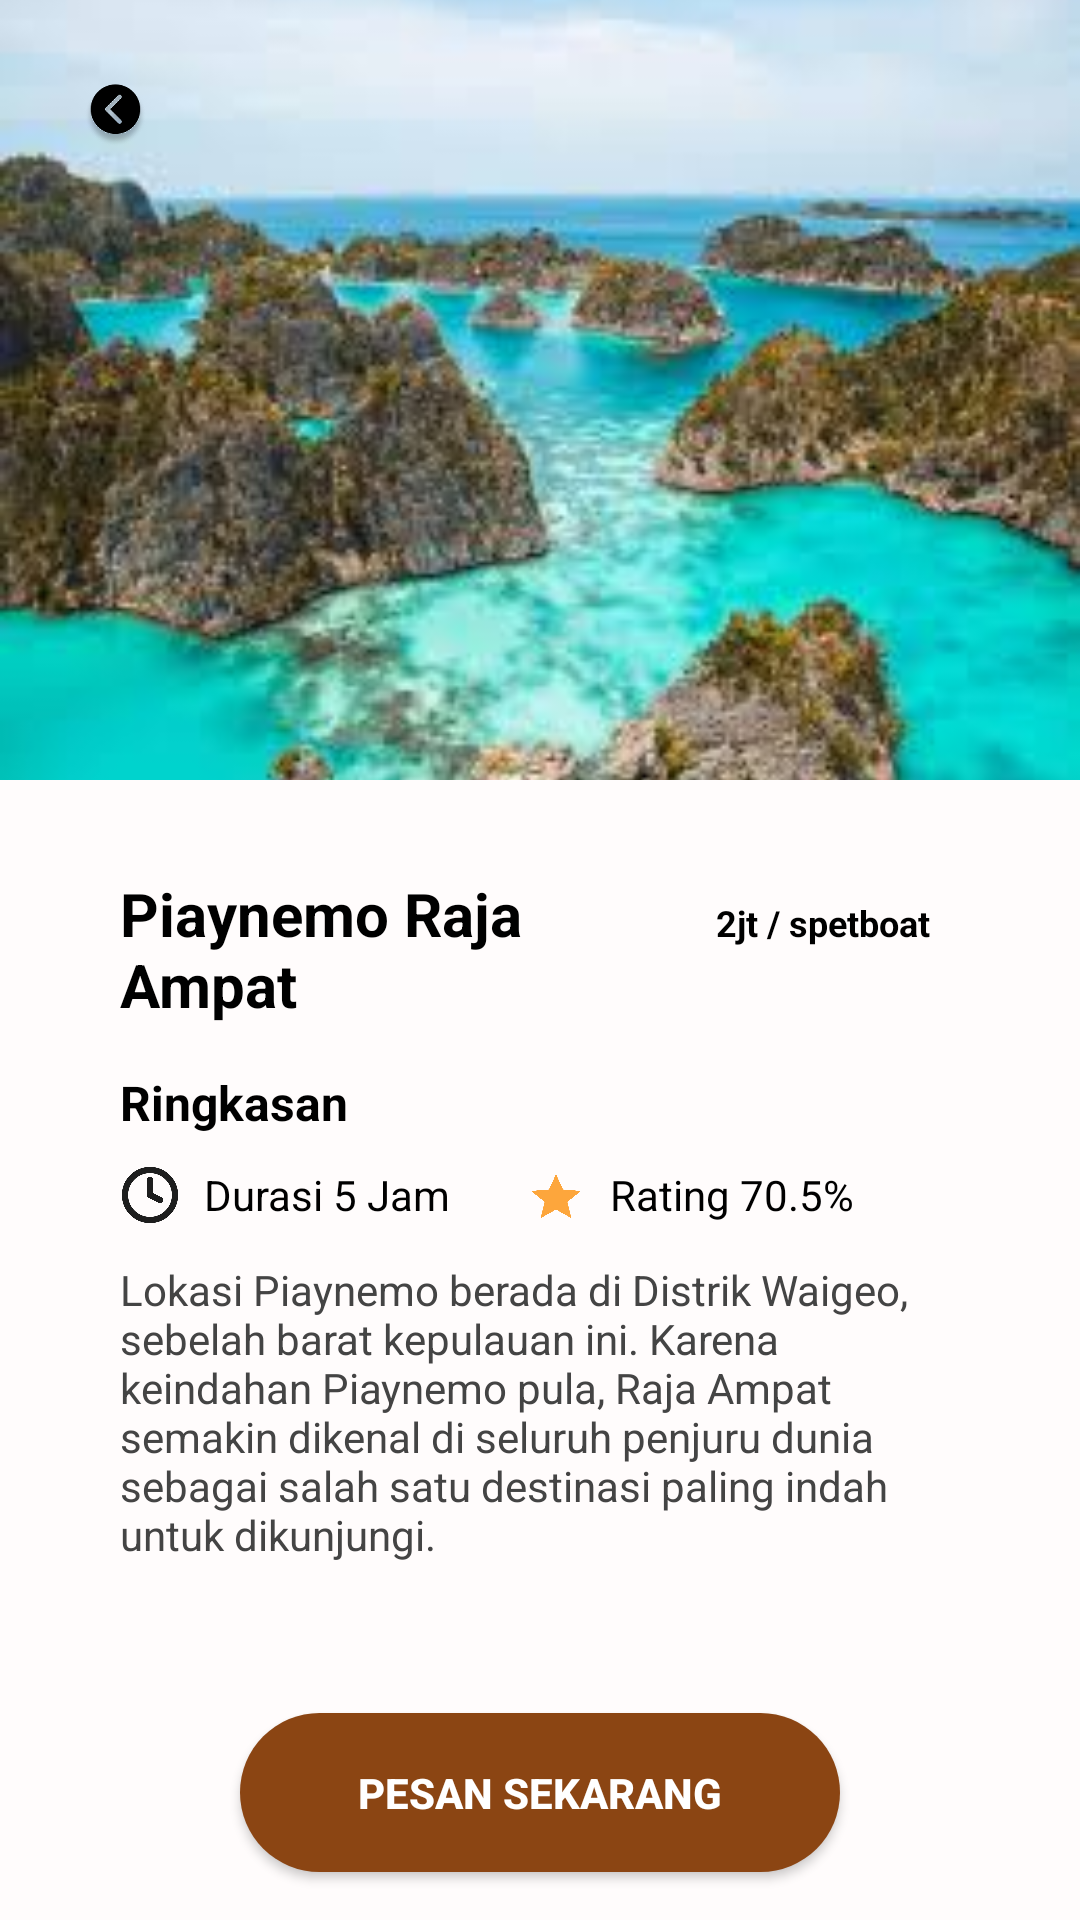

Point at icon controls on the screen. Image size 1080 × 1920, points as (x=x, y=y).
stars: (x=556, y=1196)
